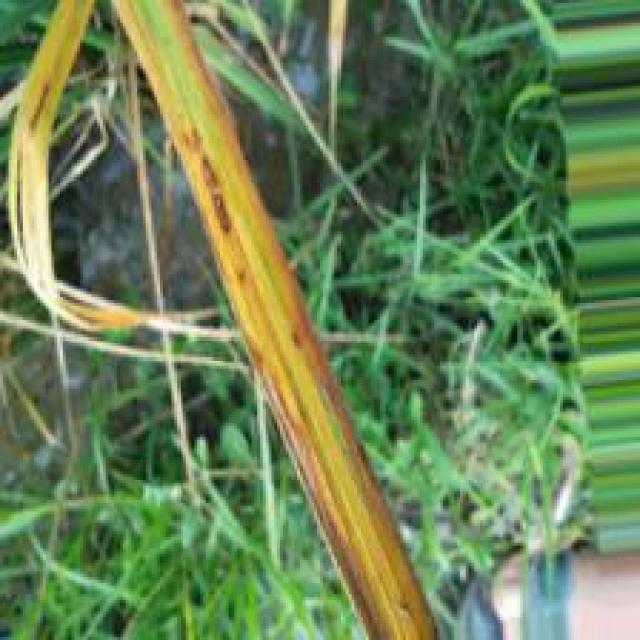Bacterial_Leaf_Blight: (161, 1, 441, 638), (176, 118, 395, 640), (114, 0, 186, 129)
